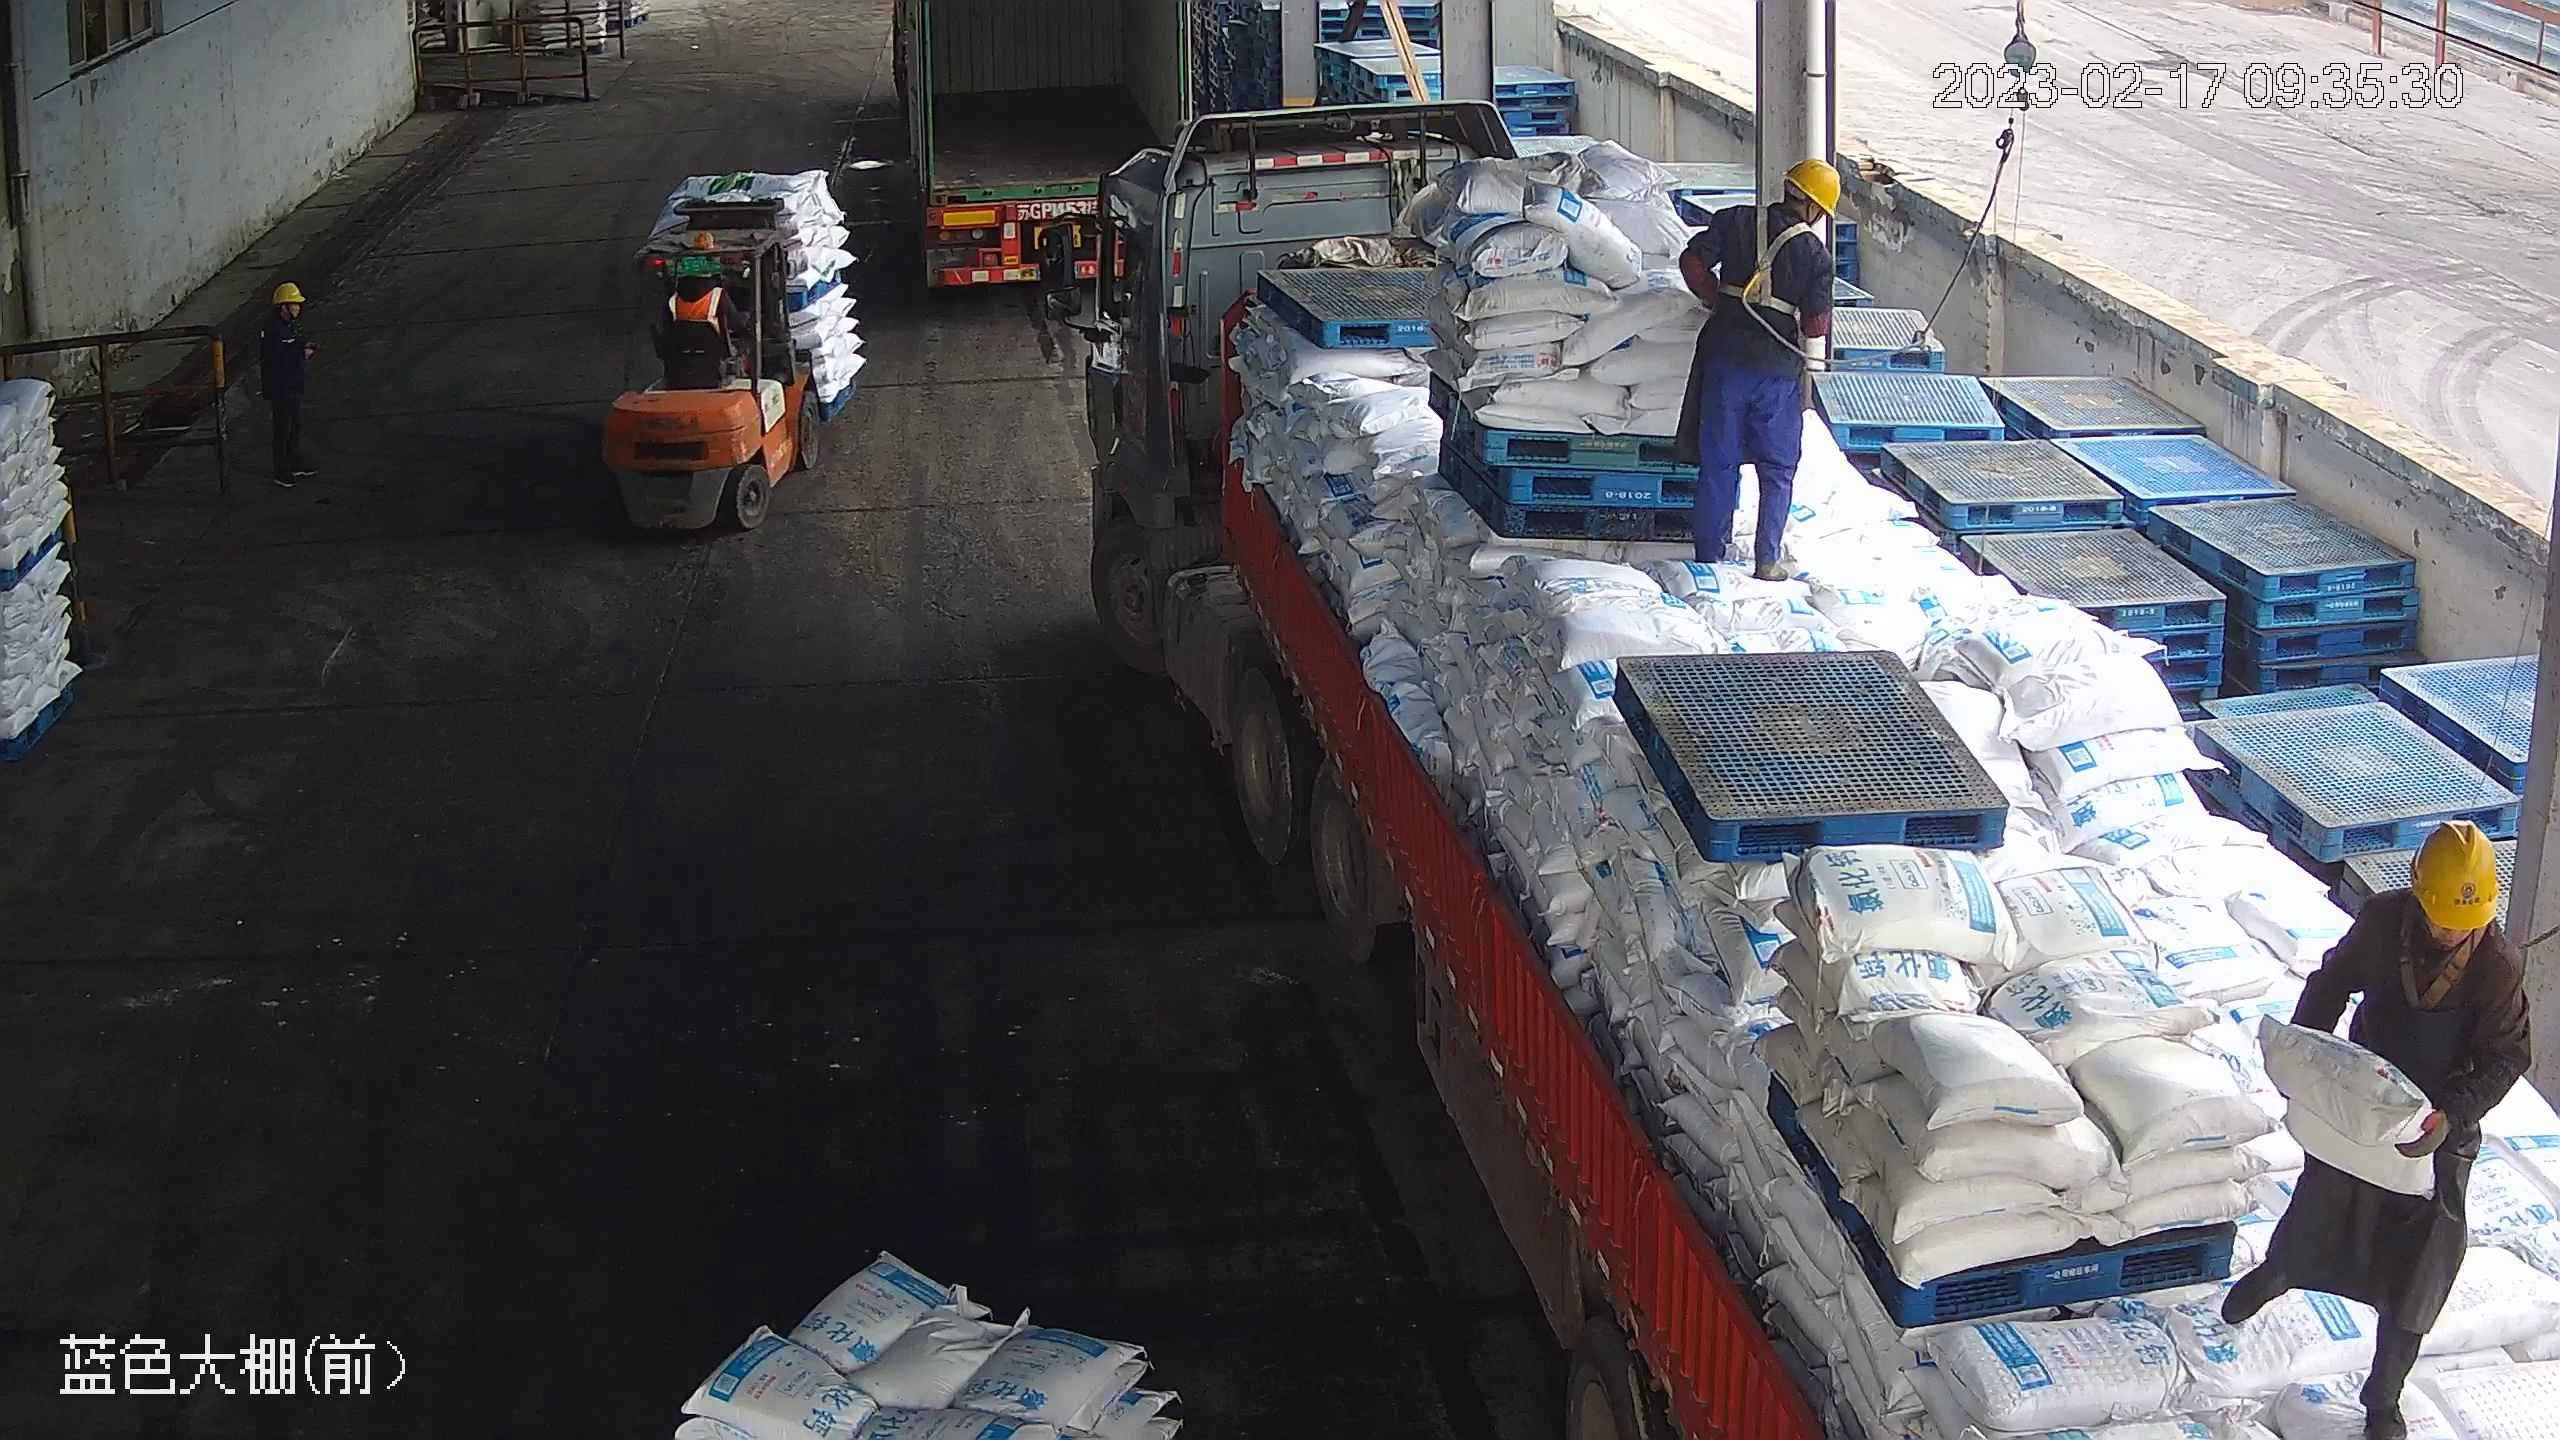belt: (2385, 895, 2536, 1006), (1719, 207, 1818, 316)
head: (2342, 816, 2526, 992), (1708, 158, 1842, 266), (257, 280, 313, 348)
helmet: (2407, 816, 2502, 931), (1785, 156, 1844, 217), (271, 280, 306, 305)
people: (2216, 812, 2538, 1432), (1672, 156, 1841, 580), (254, 278, 320, 491)
truck: (1067, 92, 2548, 1440), (884, 1, 1195, 299)
